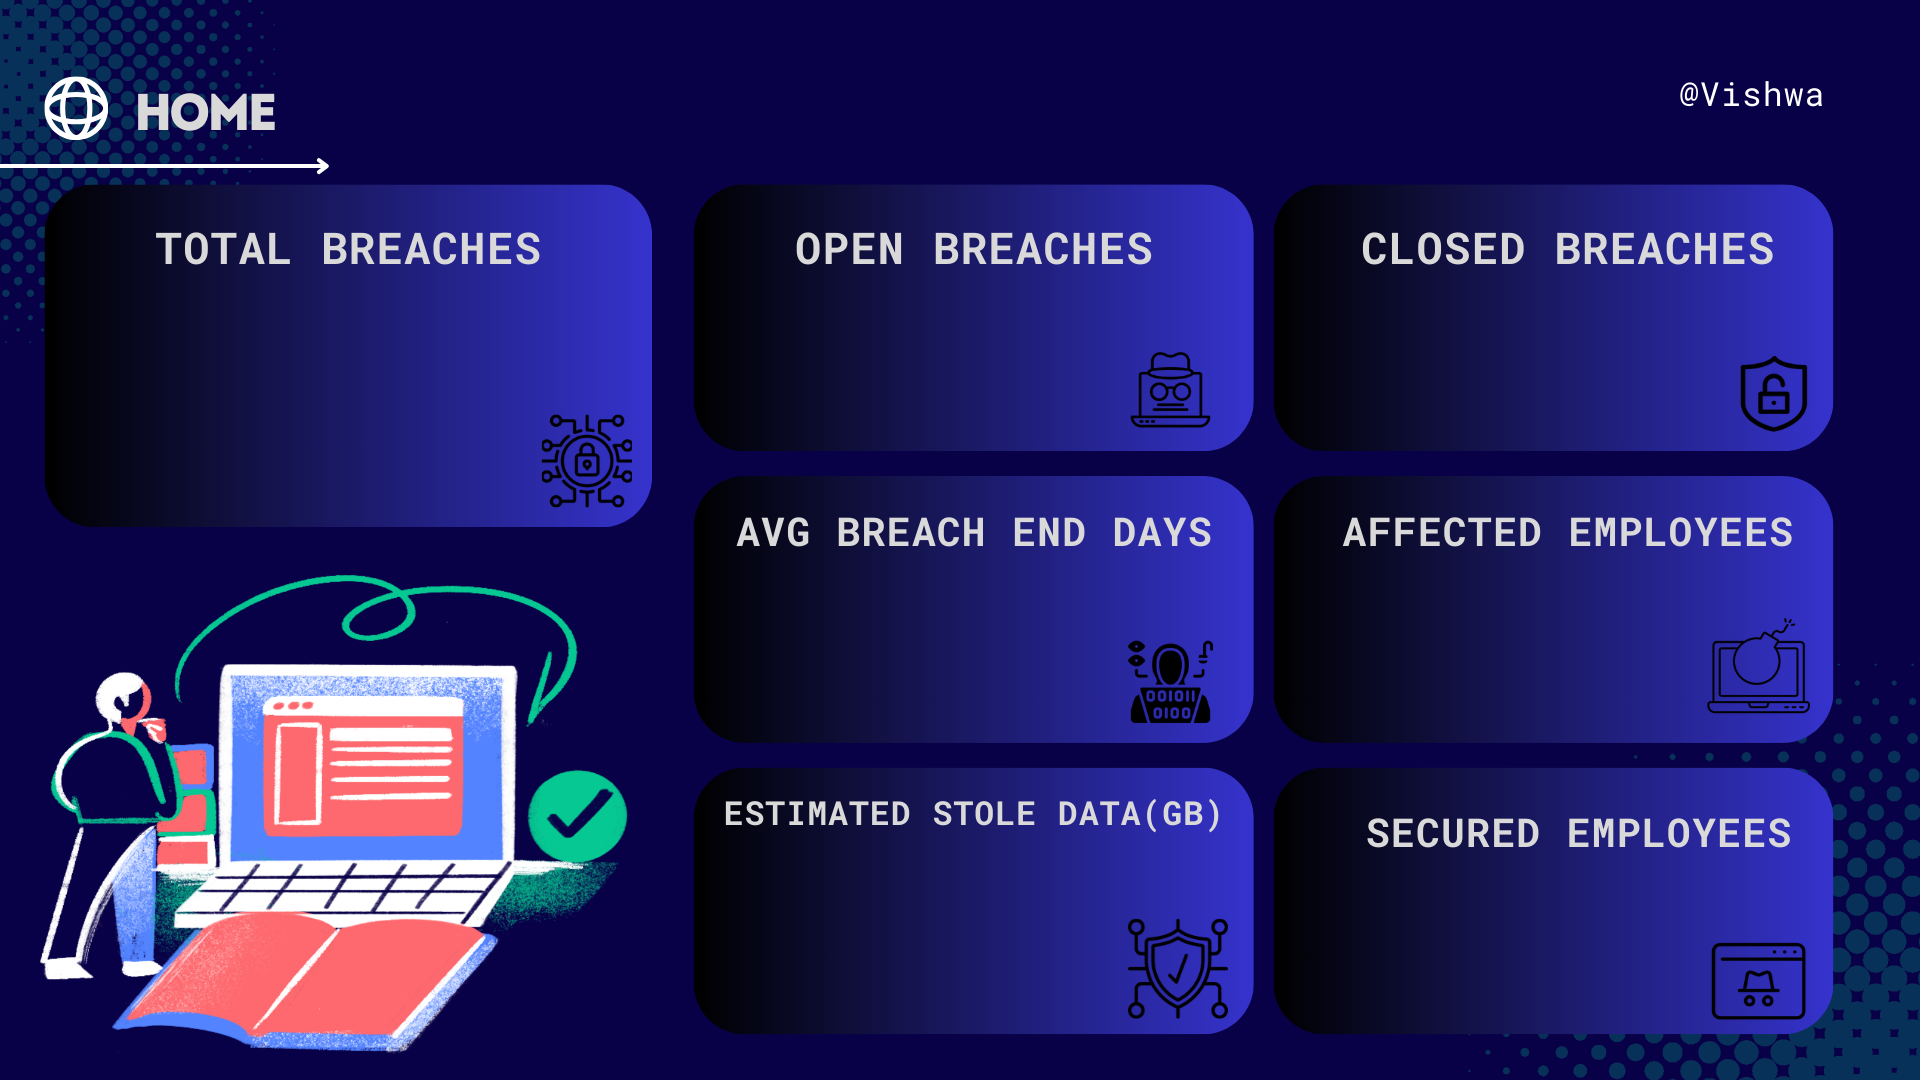

The page's visual inventory and layout, read from the dashboard file:
{"tool":"powerbi","page":{"name":"Home","canvas":[1459,720],"ordinal":1},"visuals":[{"type":"card","fields":{"Values":["Sum(other.Estimate Stole Data(GB))"]},"box":[657.4,593.1,175.3,69],"z":0},{"type":"card","fields":{"Values":["Sum(other.Number)"]},"box":[180,175.3,169.7,157.6],"z":1000},{"type":"card","fields":{"Values":["Sum(other.Individuals_Affected)"]},"box":[1126.4,390.7,146.4,94.2],"z":2000},{"type":"card","fields":{"Values":["Sum(other.Total Indicviduals)"]},"box":[1144.1,593.1,150.1,80.2],"z":3000},{"type":"card","fields":{"Values":["Sum(other.Total Indicviduals)"]},"box":[644.3,181.8,168.8,100.7],"z":4000},{"type":"card","fields":{"Values":["Sum(other.Estimate Stole Data(GB))"]},"box":[1111.5,197.7,175.3,68.1],"z":5000},{"type":"card","fields":{"Values":["Sum(other.Number)"]},"box":[663.9,339.4,168.8,157.6],"z":6000}]}

Visuals, with their boxes on the page's 1459x720 design canvas (x1, y1, x2, y2). These are canvas units, not pixel positions in the 1920x1080 screenshot, which may show the page scaled, cropped or inside an application window:
card - Sum(other.Estimate Stole Data(GB)): 657, 593, 833, 662
card - Sum(other.Number): 180, 175, 350, 333
card - Sum(other.Individuals_Affected): 1126, 391, 1273, 485
card - Sum(other.Total Indicviduals): 1144, 593, 1294, 673
card - Sum(other.Total Indicviduals): 644, 182, 813, 282
card - Sum(other.Estimate Stole Data(GB)): 1112, 198, 1287, 266
card - Sum(other.Number): 664, 339, 833, 497
